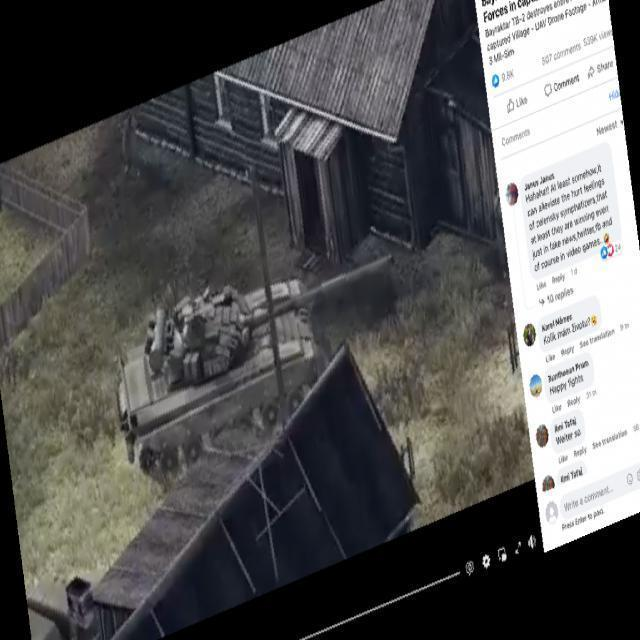Tanks: (114, 249, 394, 492)
